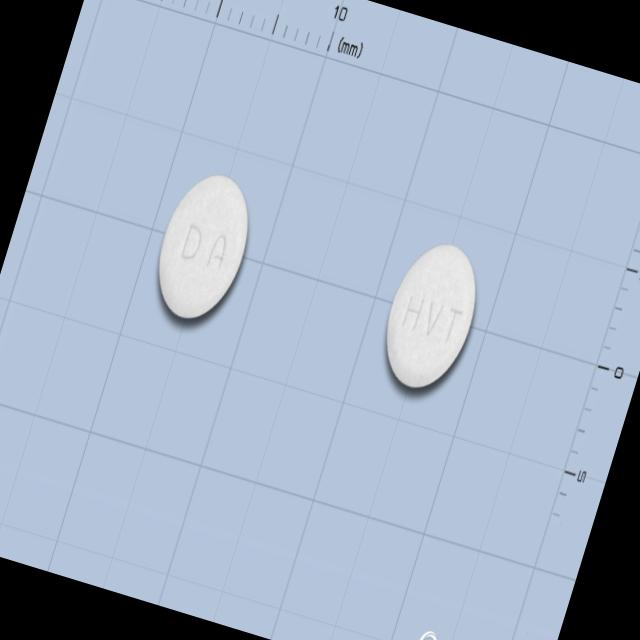Hepsevir: (140, 160, 266, 332), (369, 229, 492, 399)
